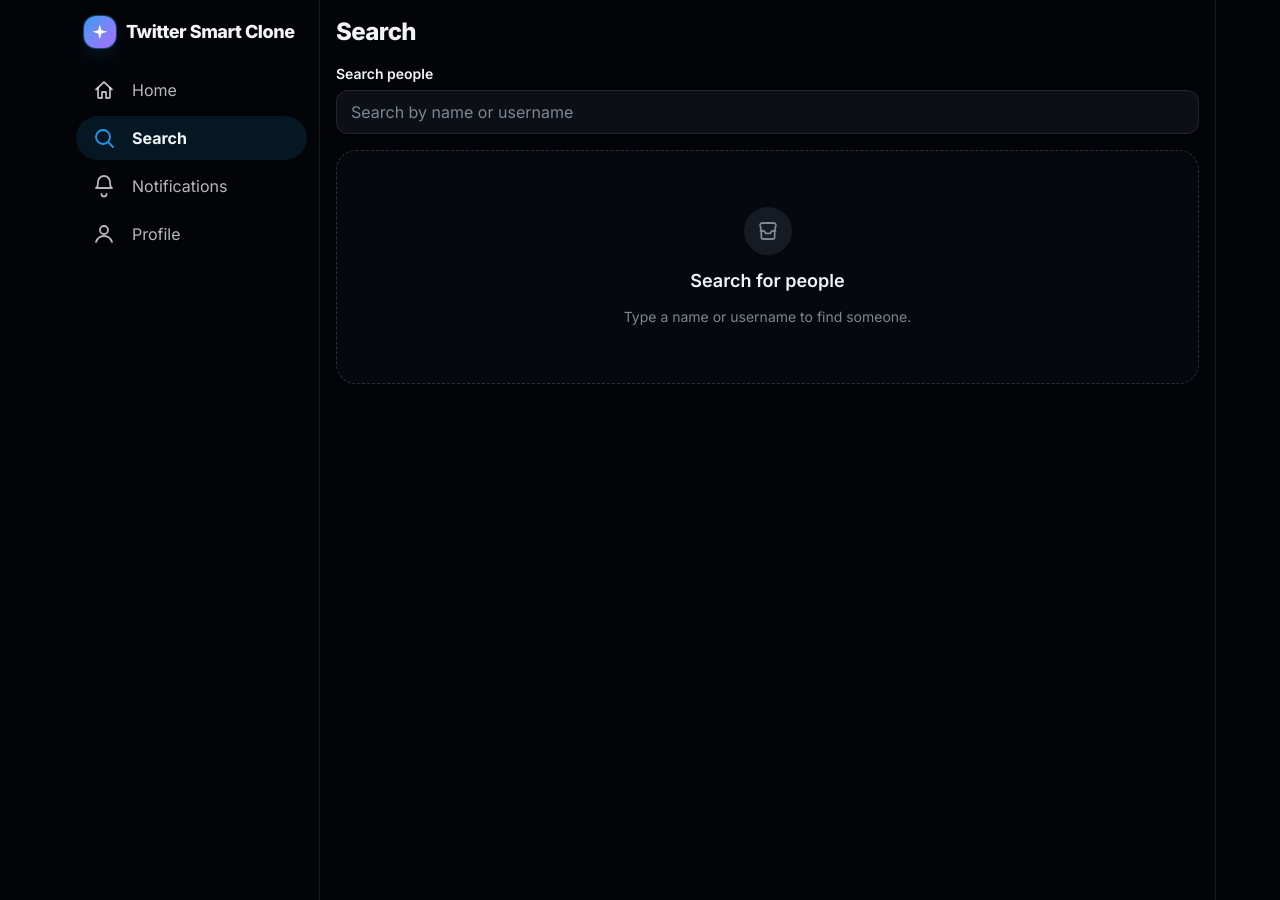
Test case: Search › searches on typing (debounced) using prefix mode, without exposing that choice in the UI
Expected: the heading "Search" is shown, [336, 17, 416, 46]
Type "al" into the field labelled "Search people" at point(768, 112), box [336, 90, 1199, 134]
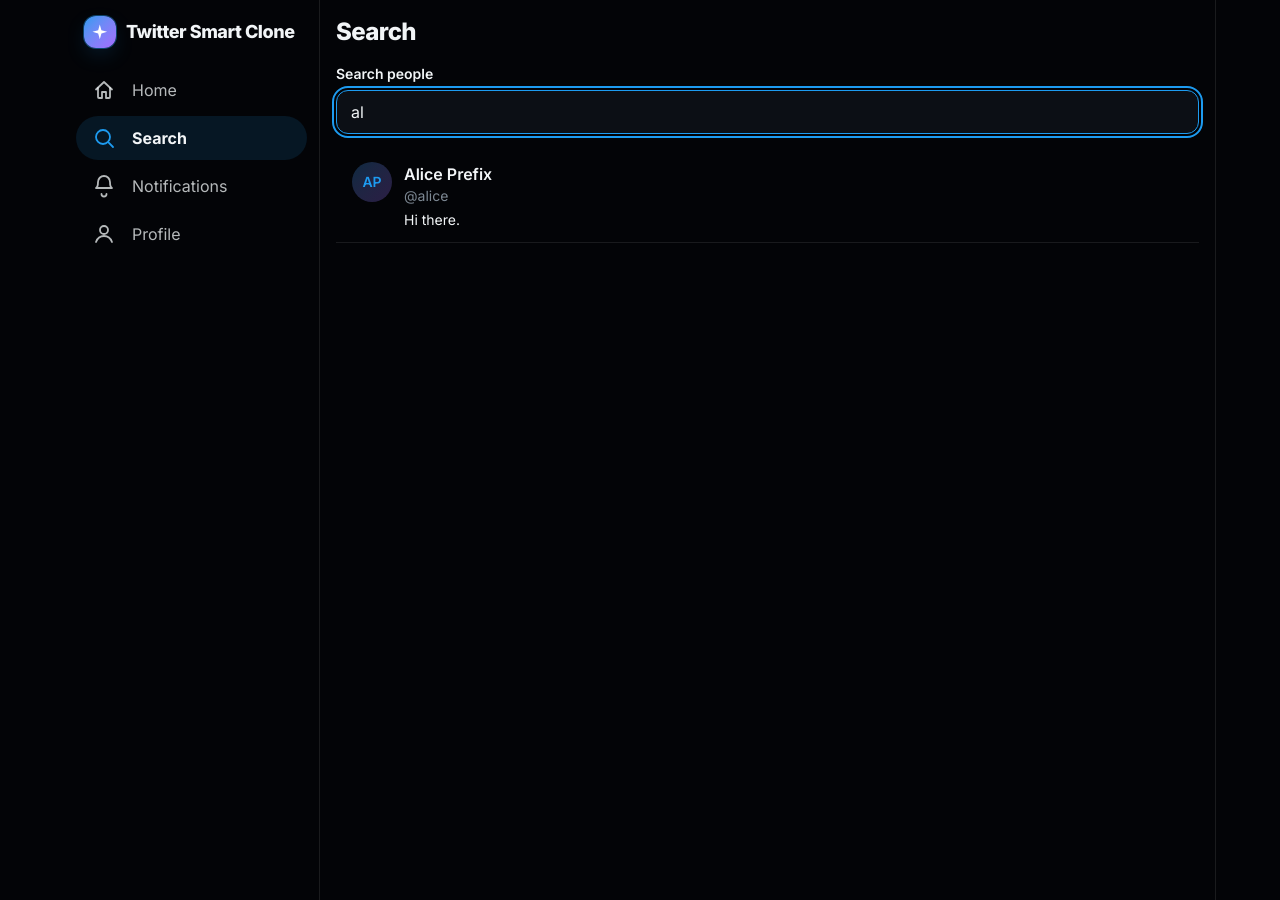
Expected: the text "Alice Prefix" is shown, [404, 164, 492, 184]
